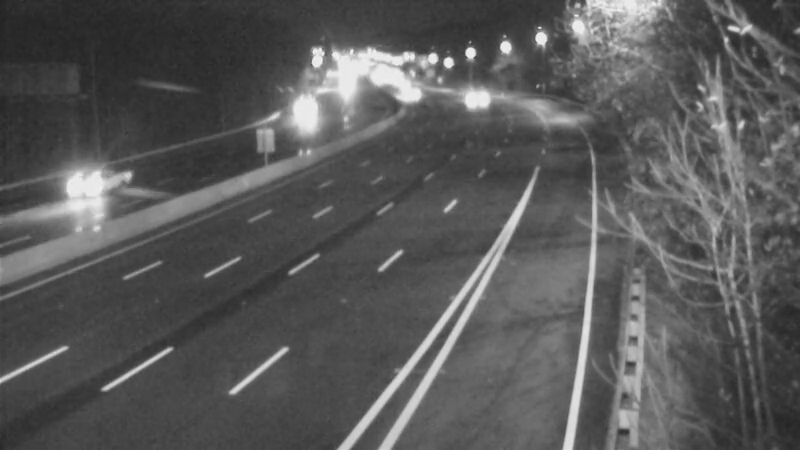vehicle: (45, 147, 125, 227), (383, 68, 433, 118), (445, 72, 495, 122), (274, 90, 324, 140)
